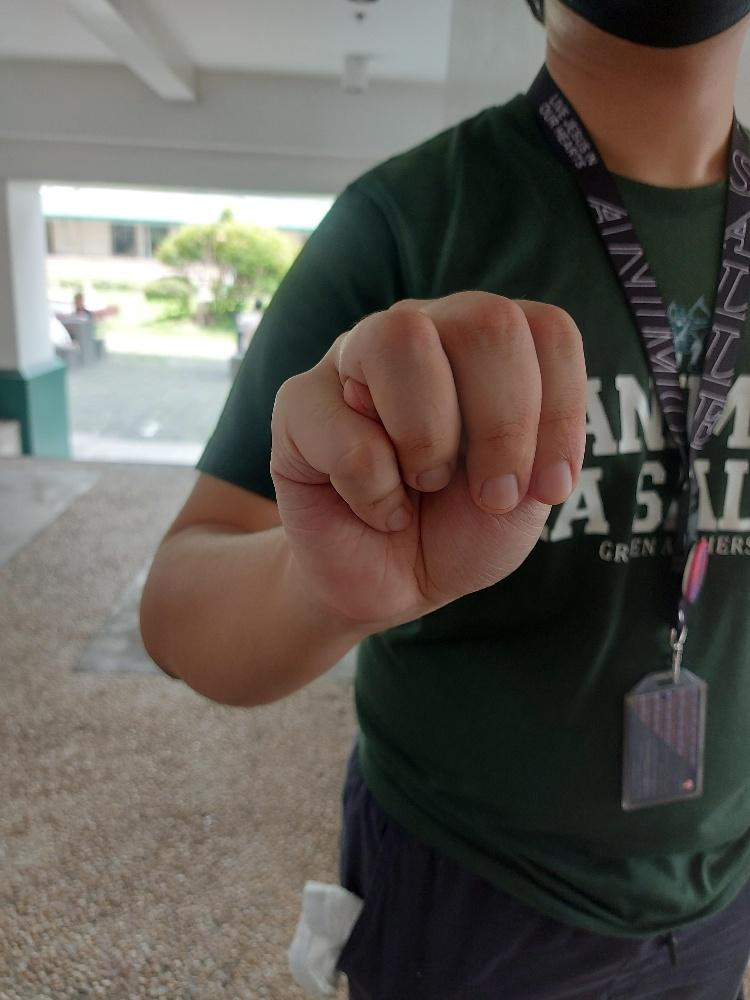m: (269, 289, 589, 624)
